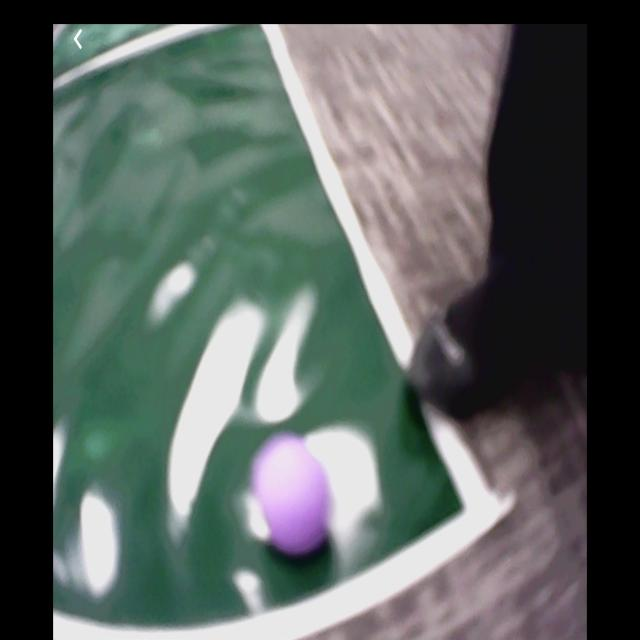ball: (250, 431, 334, 559)
